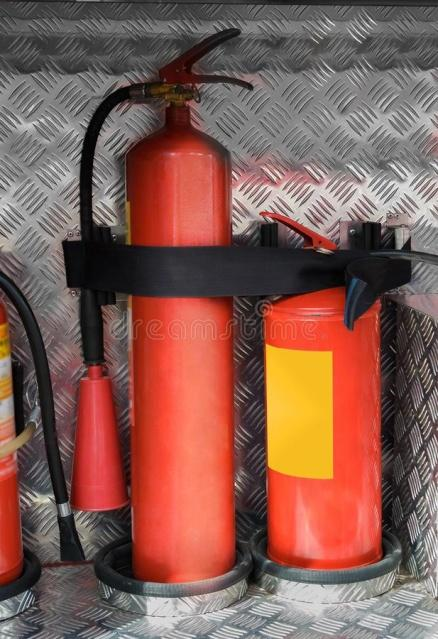APAR: (123, 26, 254, 584), (258, 209, 382, 569)
